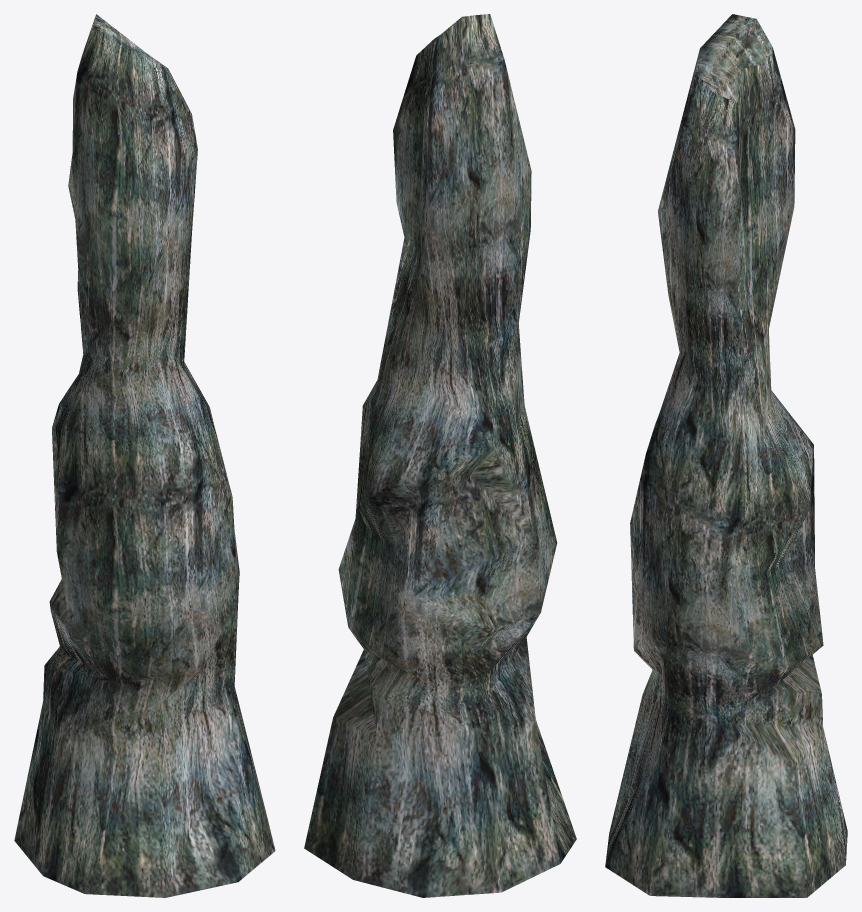
Rendered from rock_dath_desertspire_a1_l2.fbx.
3 views of the same model, side by side, from view 1: azimuth 30°, elevation 25°; view 2: azimuth 150°, elevation 25°; view 3: azimuth 270°, elevation 25° (orthographic). The views are drawn at different scales.
Visible parts, largest first — view 1: mesh_node; view 2: mesh_node; view 3: mesh_node.
Boxes of the visible parts, left/top/right/bottom form: mesh_node: left=14, top=14, right=275, bottom=897; mesh_node: left=304, top=14, right=576, bottom=897; mesh_node: left=605, top=14, right=847, bottom=897.
Bounding box in the file's own units: 17.25 × 65.89 × 17.74.
